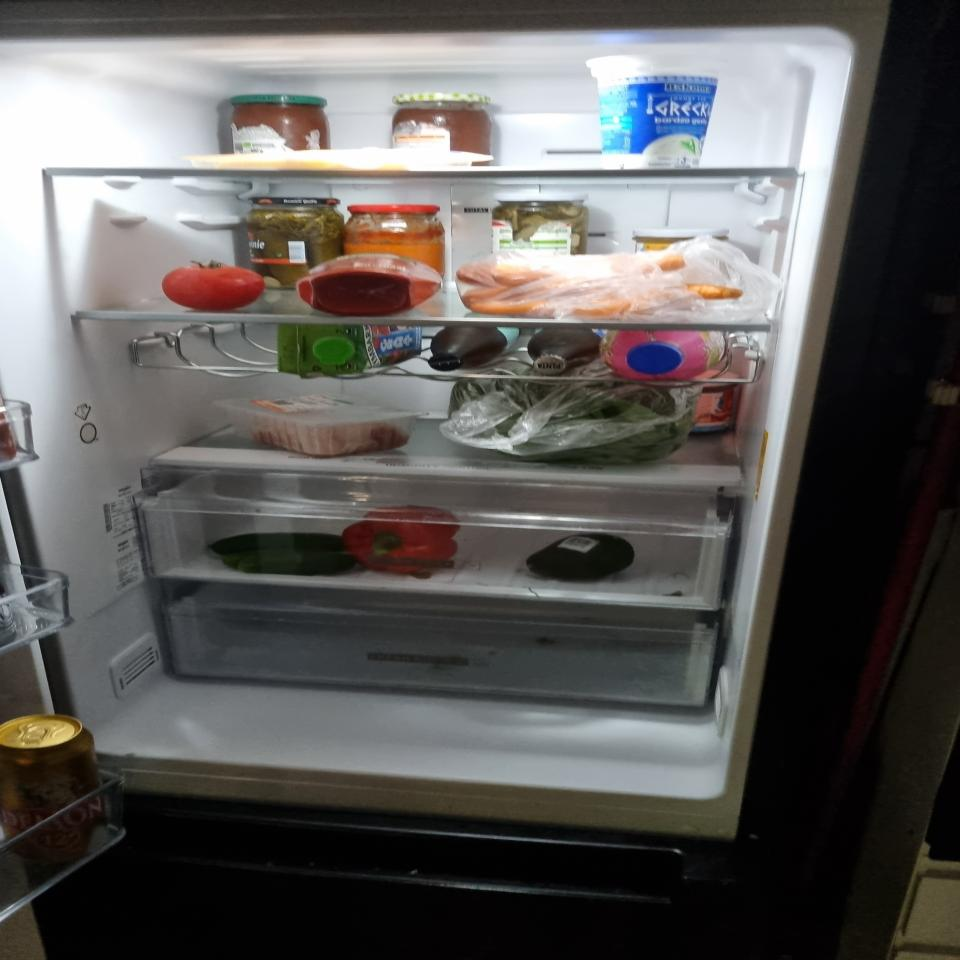Aguacate: (528, 533, 634, 581)
Carne pollo: (212, 391, 429, 457)
Lechuga/Endivia: (447, 376, 702, 464)
Pepino: (210, 532, 358, 576)
Queso: (183, 148, 494, 169)
Tomate: (160, 261, 263, 311)
Yogur: (584, 56, 731, 169)
Zanahoria: (455, 256, 745, 318)
